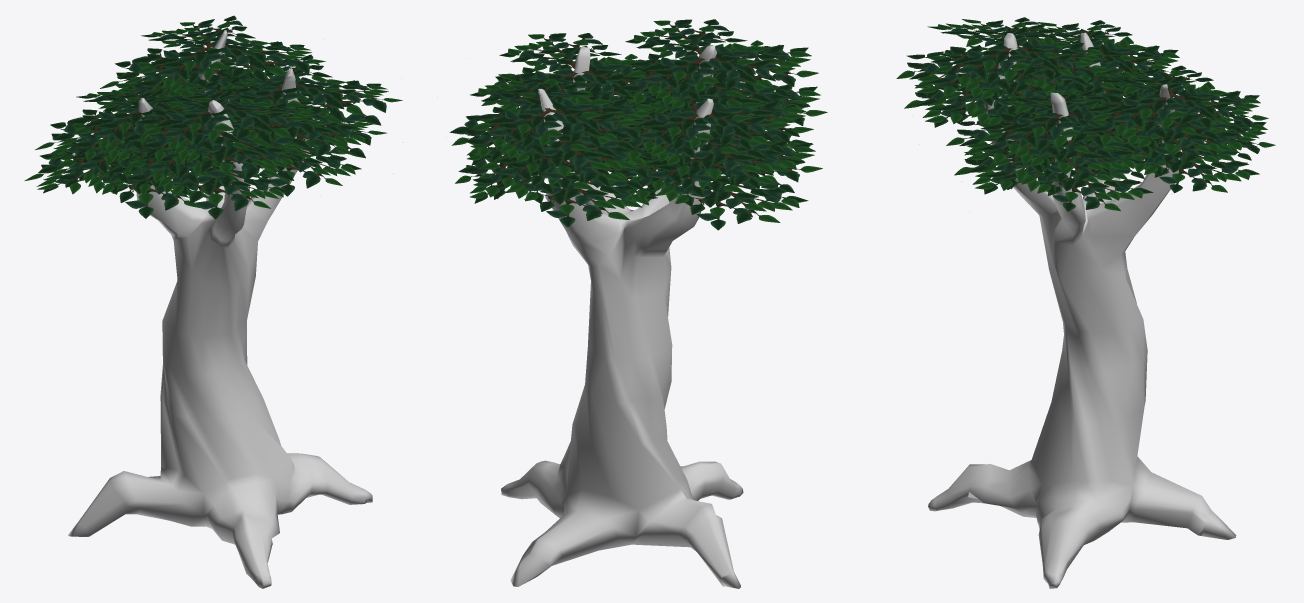
Rendered from BigTreeWithLeafsTryToPaint.fbx.
3 renders of one model, left to right at view 1: azimuth 30°, elevation 25°; view 2: azimuth 150°, elevation 25°; view 3: azimuth 270°, elevation 25°, orthographic. The views are drawn at different scales.
Visible parts, largest first — view 1: polySurface2104; view 2: polySurface2104; view 3: polySurface2104.
Boxes of the visible parts, left/top/right/bottom form: polySurface2104: left=24, top=15, right=403, bottom=588; polySurface2104: left=449, top=19, right=827, bottom=588; polySurface2104: left=896, top=17, right=1275, bottom=588.
Bounding box in the file's own units: 2692 × 3368 × 2682.
